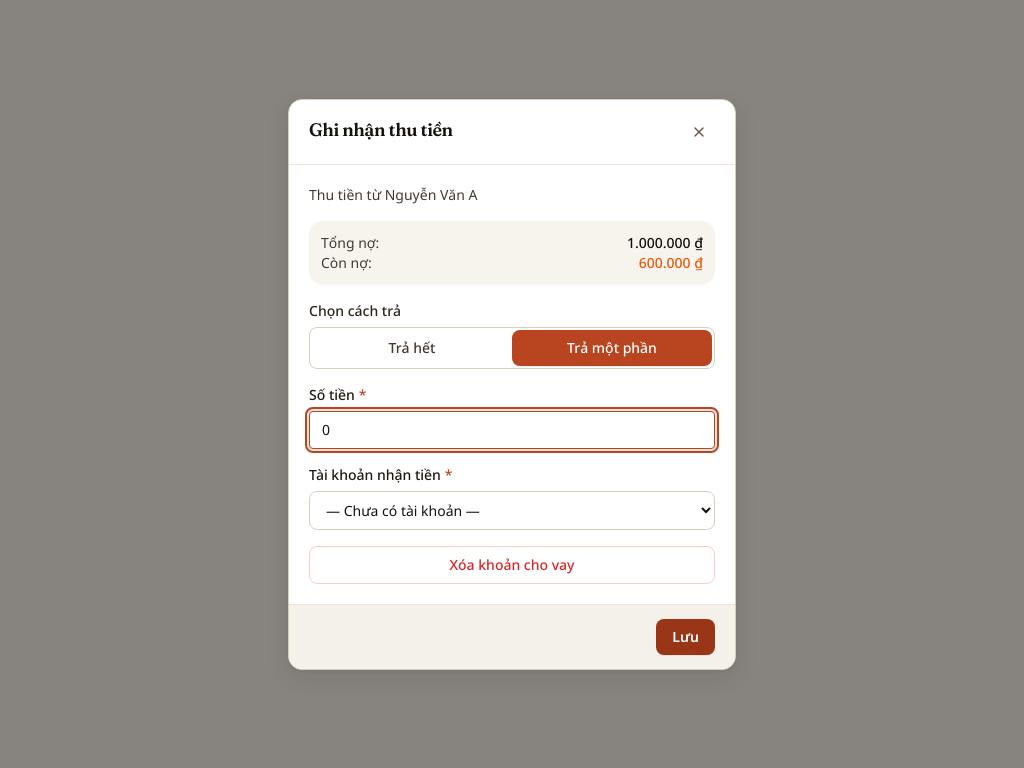
Test: PaymentModal › Validation: amount rỗng → submit hiển thị error
The image size is (1024, 768).
Clear the field. click: {"x": 512, "y": 430}
box: [309,410,715,448]
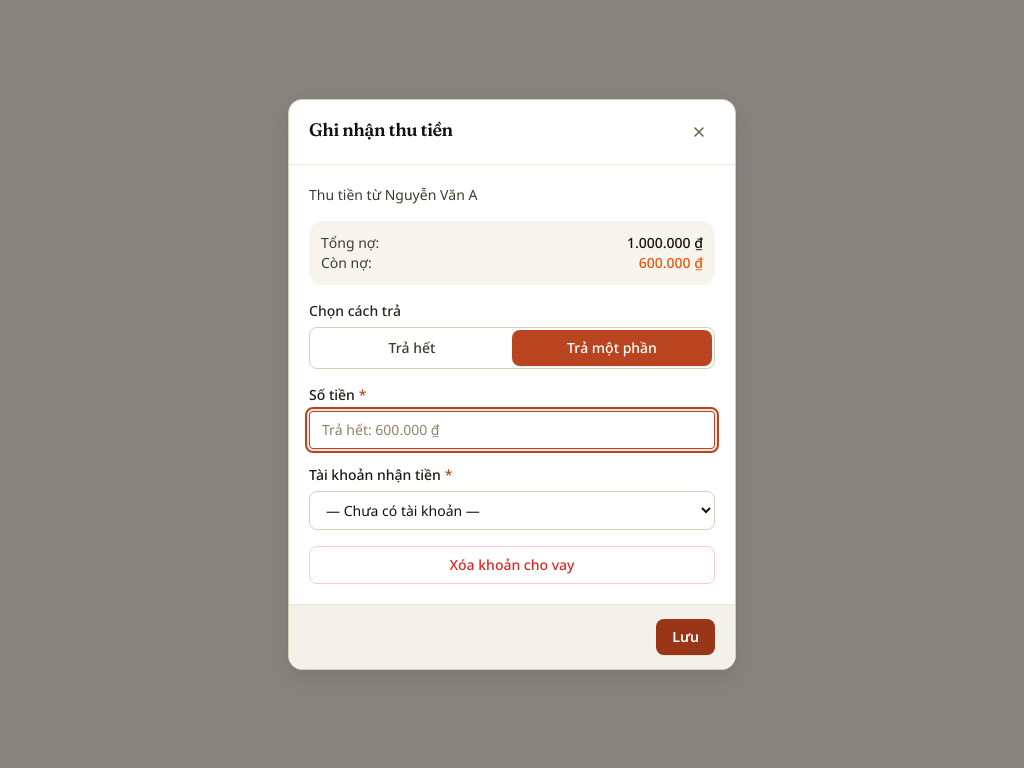
Click the button "Lưu". click: {"x": 686, "y": 636}
box: [656,618,715,654]
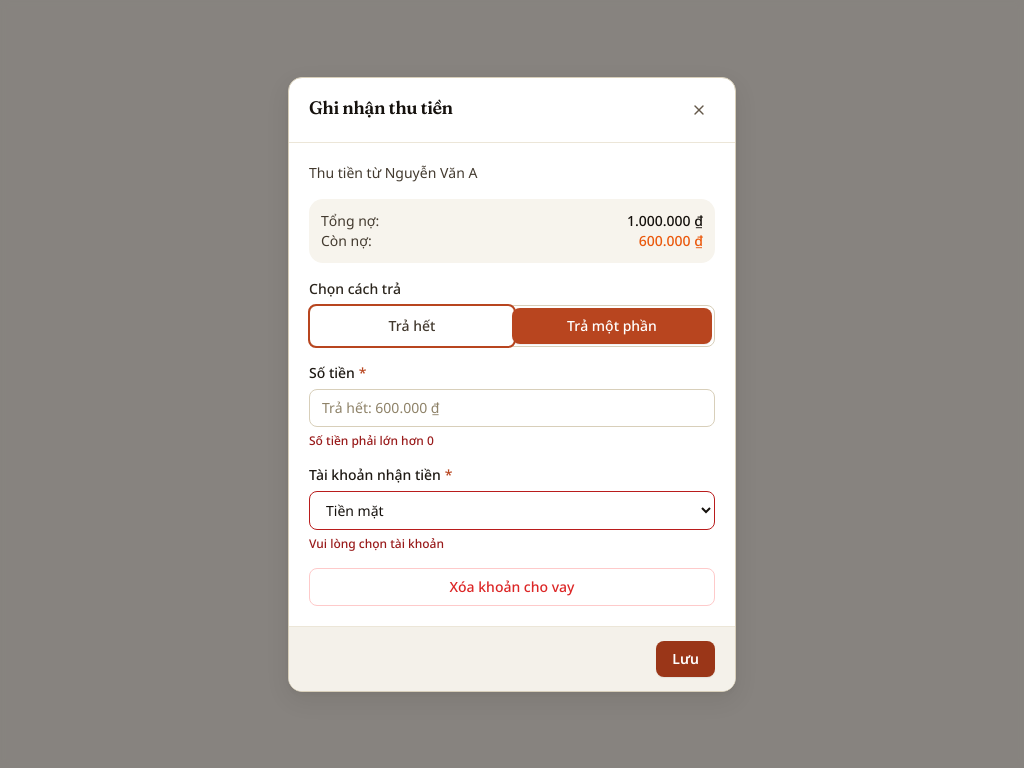
expect the text "Số tiền phải lớn hơn 0" is shown: met, box [309,432,434,448]
